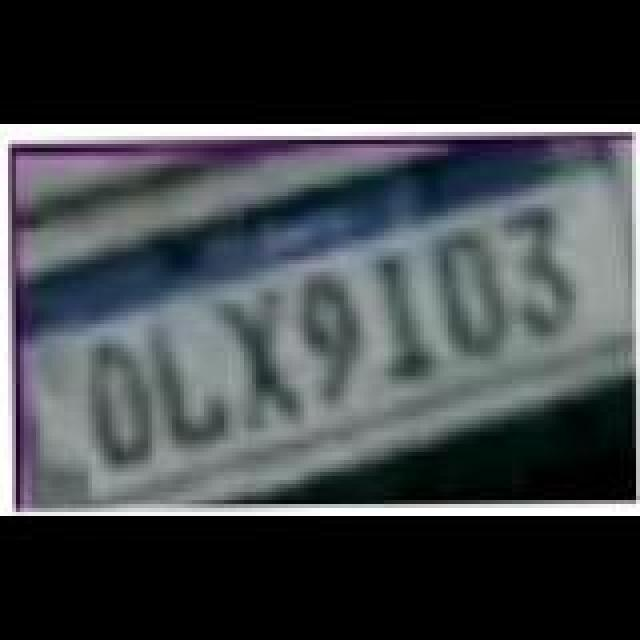3: (506, 210, 582, 342)
9: (294, 274, 370, 406)
D: (432, 232, 512, 360)
I: (372, 254, 436, 386)
L: (150, 326, 234, 450)
O: (86, 342, 162, 474)
X: (222, 292, 306, 428)
